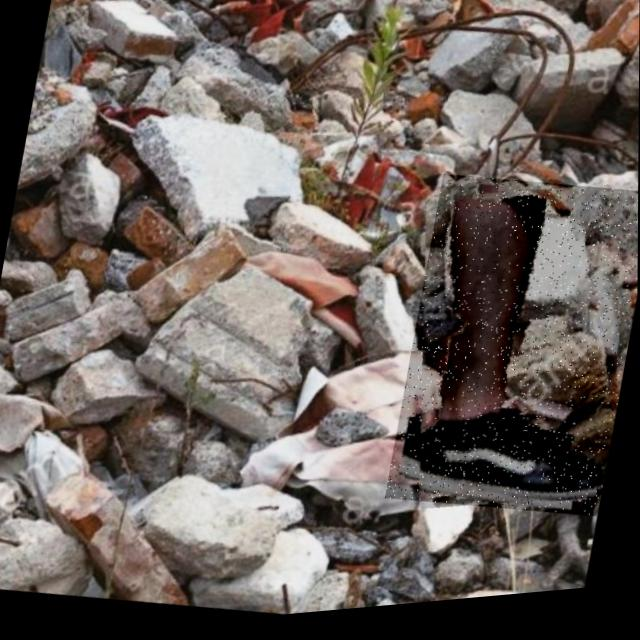Person in Rubble: (385, 168, 639, 543)
